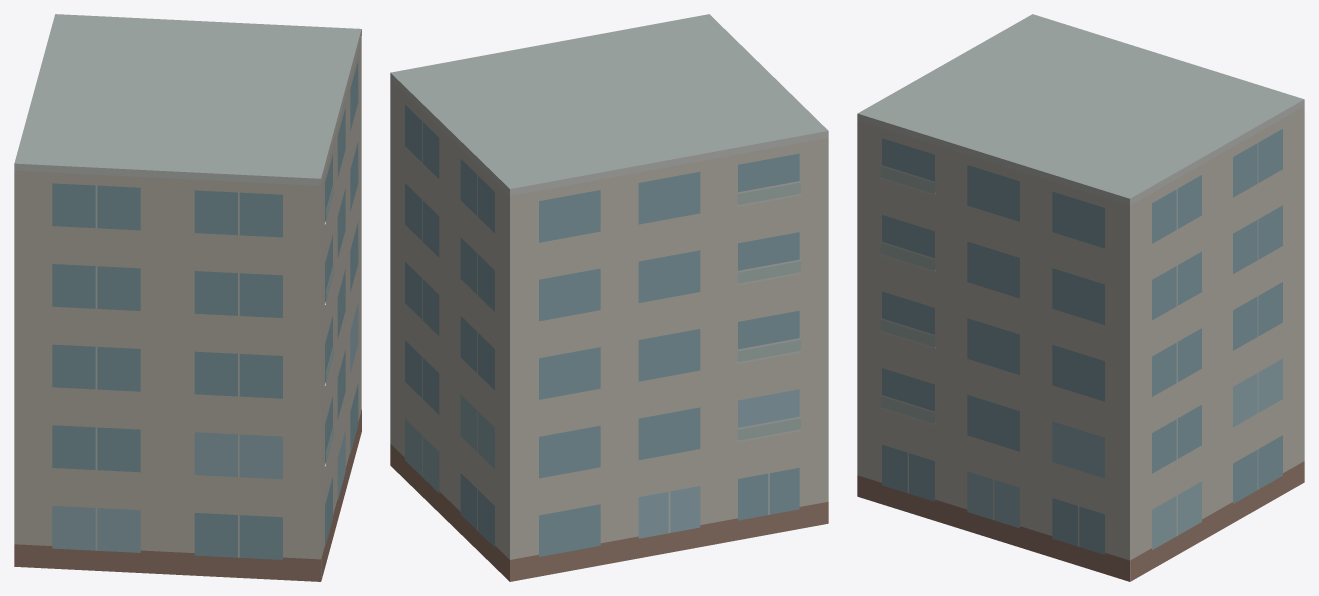
File: survey-upis-32706249.glb
3 views of the same model, side by side, from view 1: azimuth 30°, elevation 25°; view 2: azimuth 150°, elevation 25°; view 3: azimuth 270°, elevation 25° (orthographic). The views are drawn at different scales.
Visible parts, largest first — view 1: survey-upis-32706249.tmp; view 2: survey-upis-32706249.tmp; view 3: survey-upis-32706249.tmp.
Boxes of the visible parts, bbox=[...] form: survey-upis-32706249.tmp: bbox=[14, 14, 361, 581]; survey-upis-32706249.tmp: bbox=[390, 14, 828, 581]; survey-upis-32706249.tmp: bbox=[857, 14, 1304, 581].
Size of the model in its own units: 14.39 by 13.9 by 14.71.
